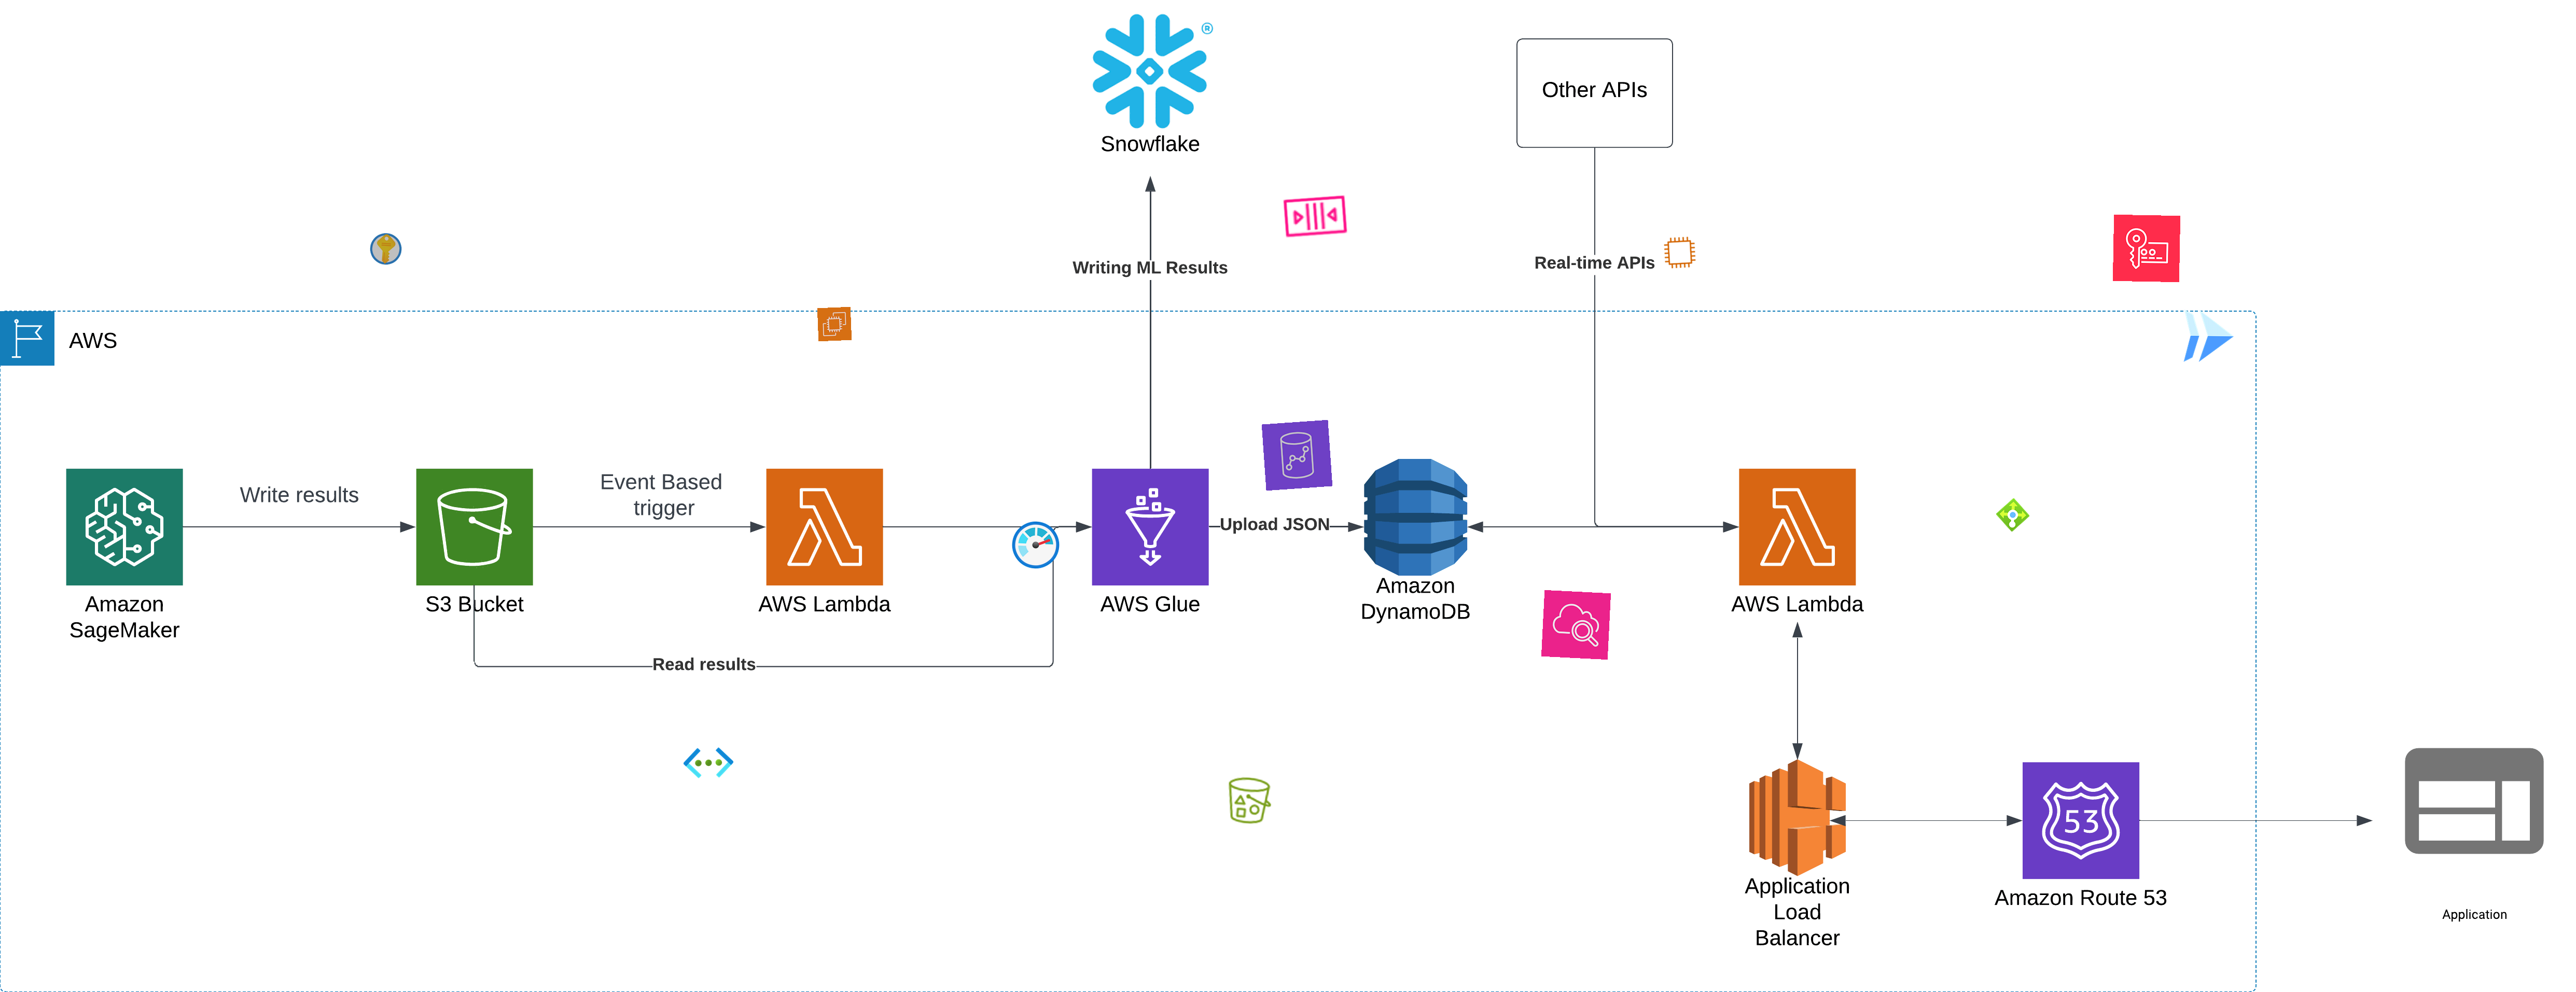aws_amazon_cloudwatch: (1541, 590, 1612, 660)
aws_amazon_ec2: (816, 307, 853, 342)
aws_amazon_redshift: (1262, 419, 1332, 491)
aws_ec2_instance: (1663, 235, 1697, 269)
aws_key_management_service: (2113, 214, 2180, 282)
aws_simple_queue_service_queue: (1280, 181, 1350, 251)
aws_simple_storage_service_bucket_with_objects: (1222, 774, 1277, 828)
azure_key_vaults: (368, 232, 404, 268)
azure_load_balancers: (1994, 498, 2031, 532)
azure_monitor: (1010, 519, 1061, 572)
azure_virtual_networks: (682, 737, 734, 788)
gcp_cloud_run: (2173, 302, 2241, 370)
